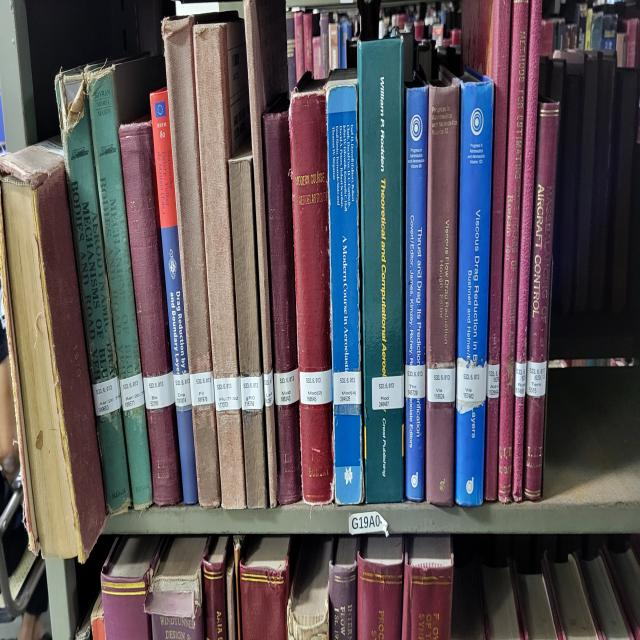Book: (85, 57, 165, 509), (55, 68, 131, 511), (162, 16, 221, 506), (192, 22, 249, 509), (119, 119, 182, 506), (245, 0, 289, 506), (358, 41, 404, 503), (150, 89, 198, 503), (289, 73, 334, 503), (461, 0, 511, 371), (455, 68, 494, 506), (326, 73, 364, 506), (425, 73, 460, 506), (499, 0, 529, 503), (511, 0, 541, 501), (229, 146, 268, 506), (524, 100, 559, 501), (405, 84, 429, 501), (262, 100, 298, 373), (484, 387, 499, 501)
Label: (456, 357, 486, 414), (92, 376, 121, 417), (144, 371, 175, 409), (371, 376, 404, 411), (300, 371, 332, 406), (332, 371, 361, 406), (120, 373, 145, 411), (274, 368, 299, 406), (214, 376, 241, 411), (428, 368, 455, 403), (190, 371, 215, 406), (240, 376, 264, 411), (526, 360, 546, 398), (405, 365, 425, 398), (174, 373, 191, 409), (486, 363, 500, 398), (515, 363, 526, 398), (264, 371, 274, 406)
